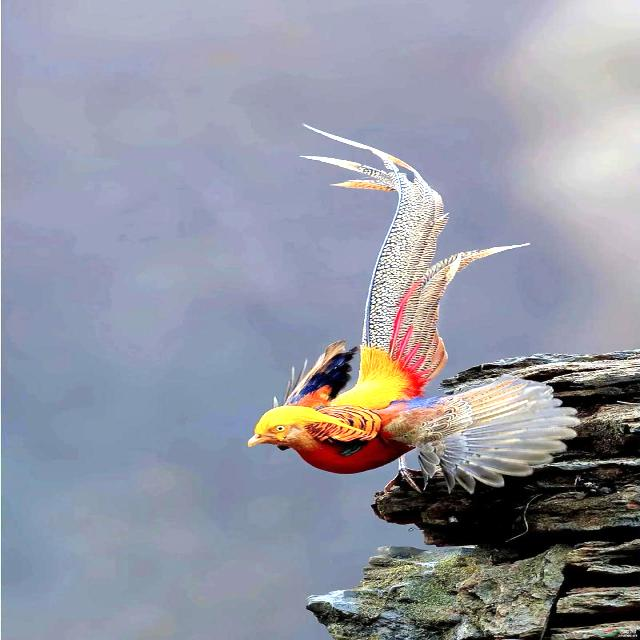Chrysolophus pictus feather: (300, 125, 528, 396)
